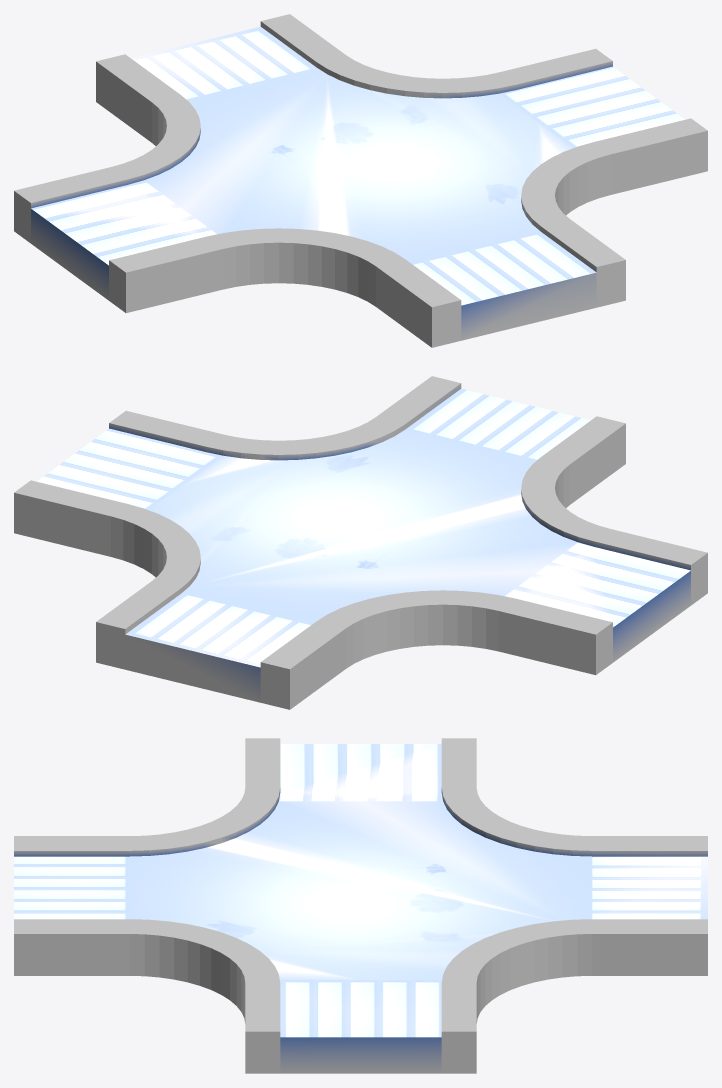
The model's file is 4WayStreet.fbx.
The picture shows the model from 3 angles, top to bottom: view 1: azimuth 30°, elevation 25°; view 2: azimuth 150°, elevation 25°; view 3: azimuth 270°, elevation 25°; orthographic projection. The views are drawn at different scales.
Parts seen in each view (by area): view 1: 4WayStreet; view 2: 4WayStreet; view 3: 4WayStreet.
Boxes of the visible parts, x1=… form: 4WayStreet: x1=14, y1=14, x2=707, y2=347; 4WayStreet: x1=14, y1=376, x2=707, y2=709; 4WayStreet: x1=14, y1=738, x2=707, y2=1073.
Size of the model in its own units: 30 by 2 by 30.
